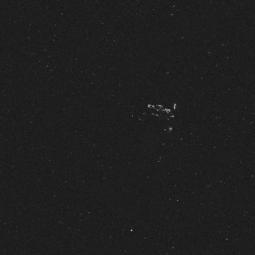lisa_pathfinder: (124, 90, 190, 159)
